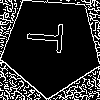T: (26, 21, 72, 55)
